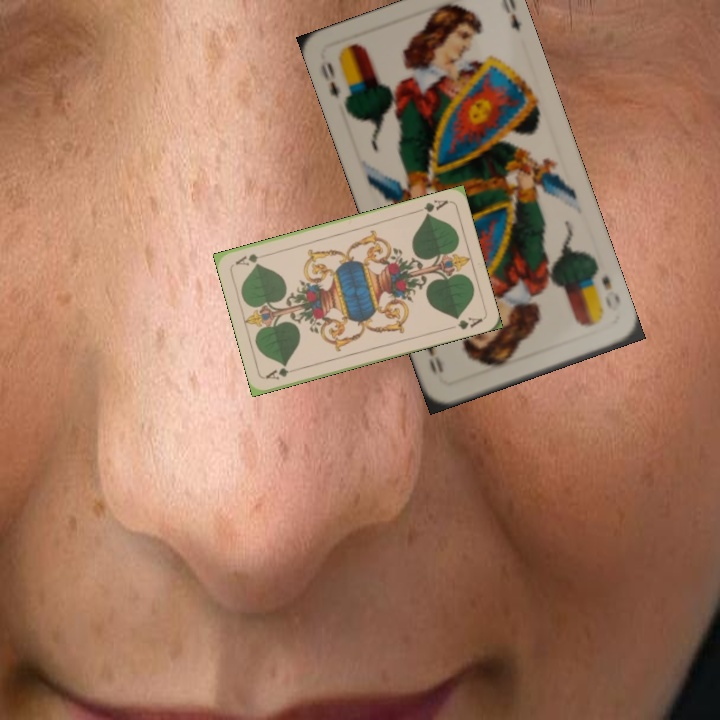EO: (316, 57, 342, 102), (597, 271, 623, 314)
GA: (412, 196, 451, 219), (262, 362, 302, 382)
